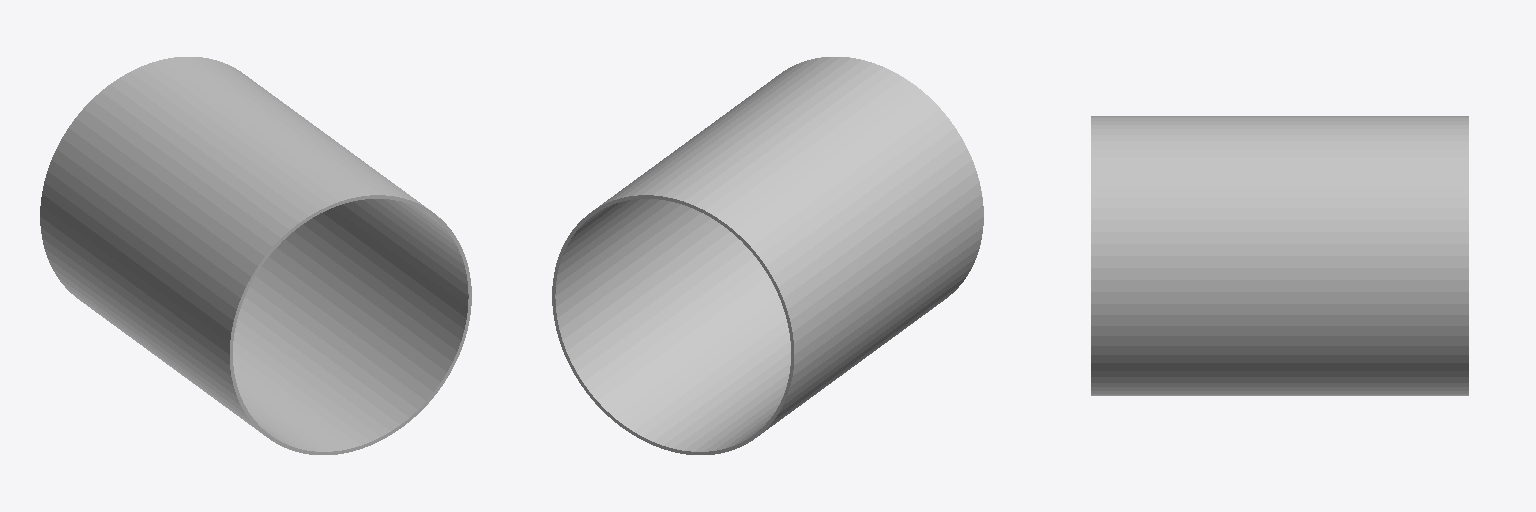
Rendered from Strips_Barrel_passives_l7.obj.
3 views of the same model, side by side, from view 1: azimuth 30°, elevation 25°; view 2: azimuth 150°, elevation 25°; view 3: azimuth 270°, elevation 25° (orthographic).
Size of the model in its own units: 2030 by 2030 by 2748.